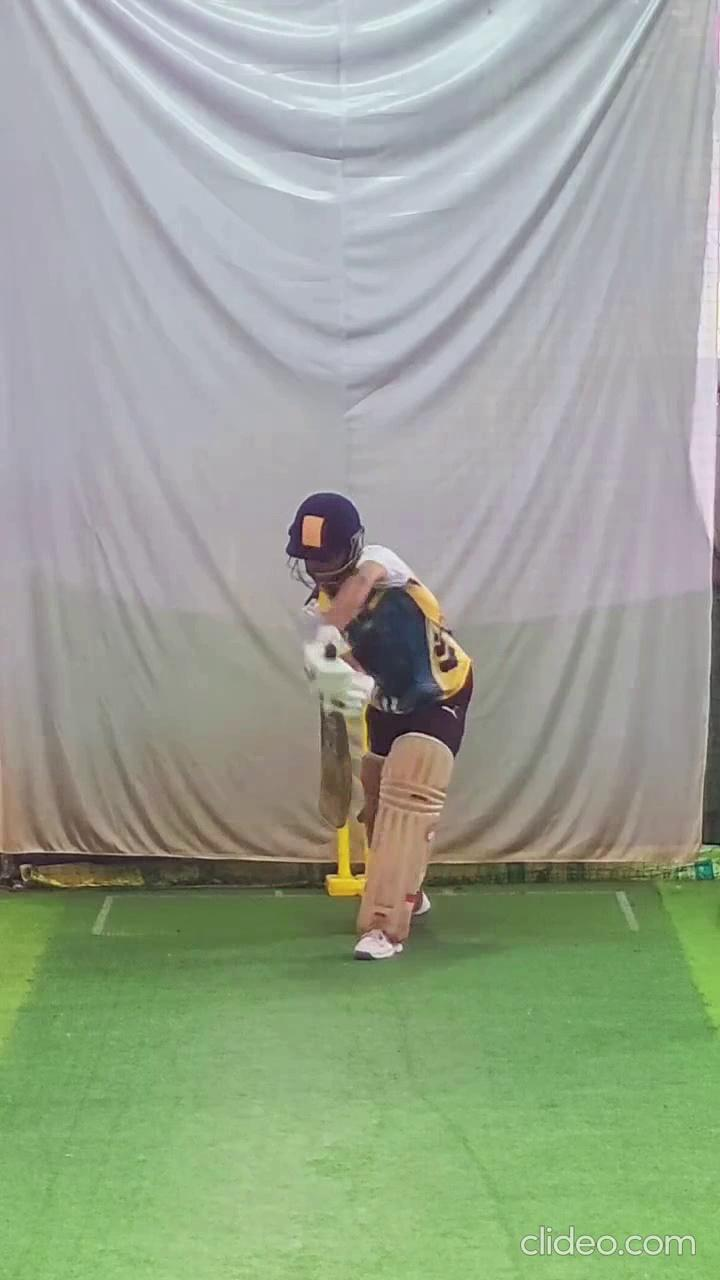bat: (314, 707, 357, 834)
